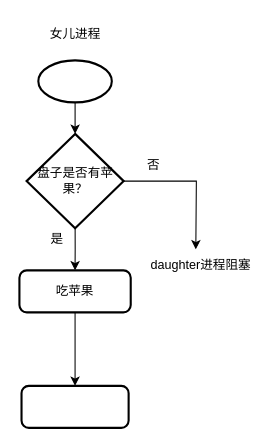
Image size: 276x446. Some labels were removed from this diagram. The shapes that lost their labels are listed below. From the top down, each one's box as (x1, y1, x2, y2) in pixels, then its label:
(37, 59, 112, 103): 开始
(20, 384, 129, 428): 唤醒Father进程
